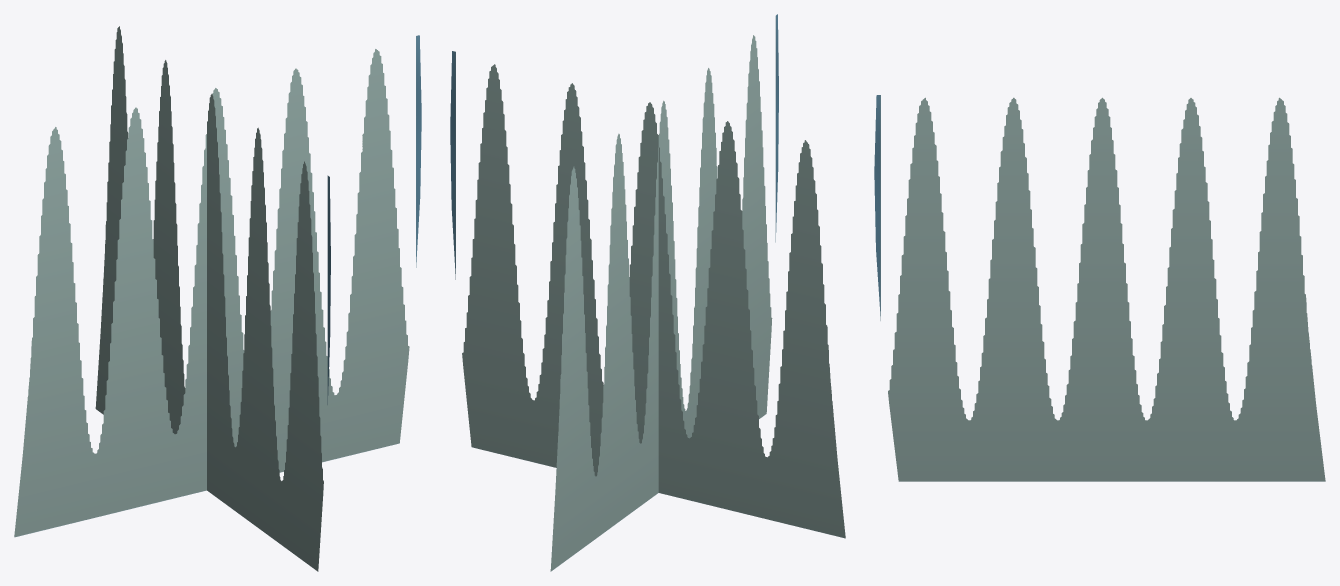
The model's file is grass_tuft_a.glb.
3 views of the same model, side by side, from view 1: azimuth 30°, elevation 25°; view 2: azimuth 150°, elevation 25°; view 3: azimuth 270°, elevation 25° (orthographic). The views are drawn at different scales.
Parts seen in each view (by area): view 1: lod0; view 2: lod0; view 3: lod0.
Part boxes in pixels (x1,y1,x2,y2): lod0: (14,26,421,571); lod0: (450,14,845,571); lod0: (874,95,1325,481).
Bounding box in the file's own units: 0.74 × 0.7 × 0.74.
1 material, 1 textured.
